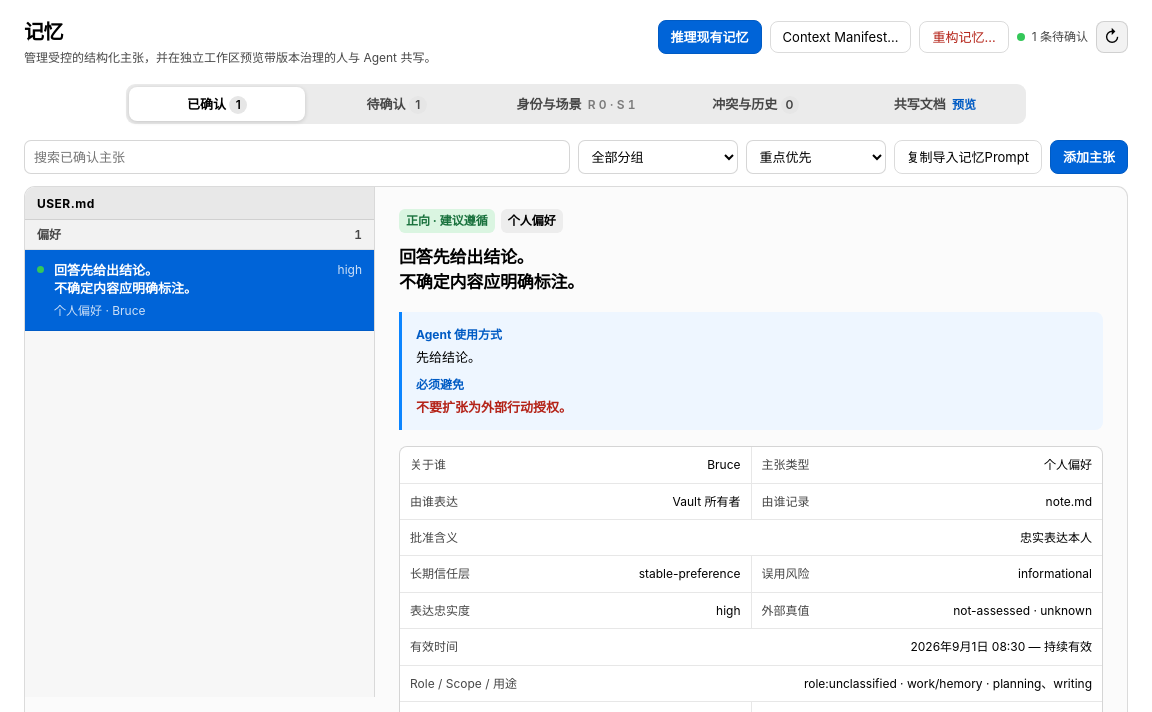
Scenario: Memory Protocol v2 app › closes a successful human draft after exactly one atomic add and reports projection recovery separately
Click the button "添加主张" at (1089, 157), box 1050,140 -> 1128,174
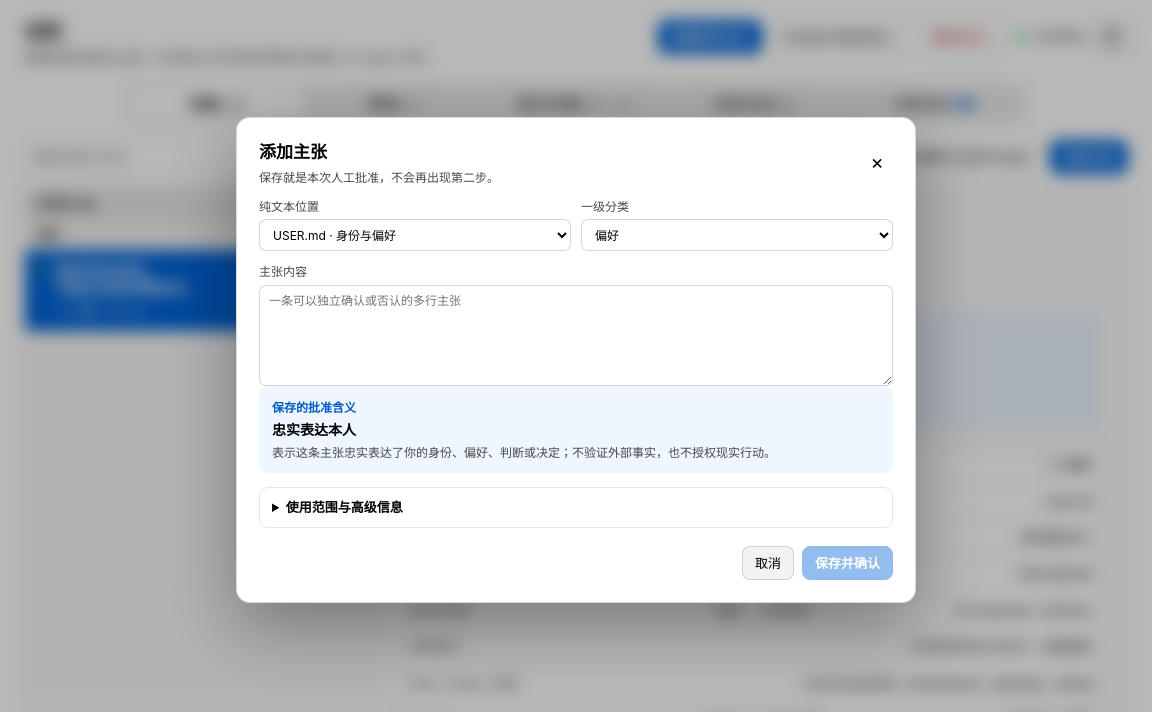
Type "我偏好短而精确的状态更新。" into the text box labelled "主张内容" at (576, 335), box 259,285 -> 893,386
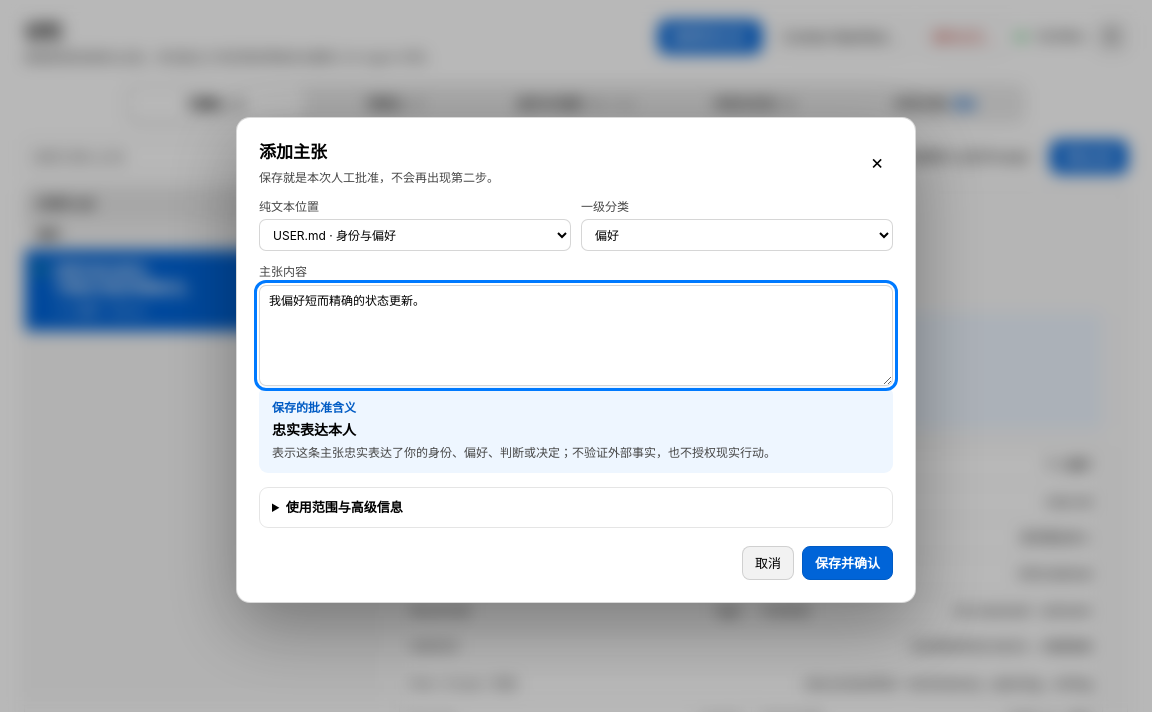
Click the button "保存并确认" at (848, 563), box 802,546 -> 893,580
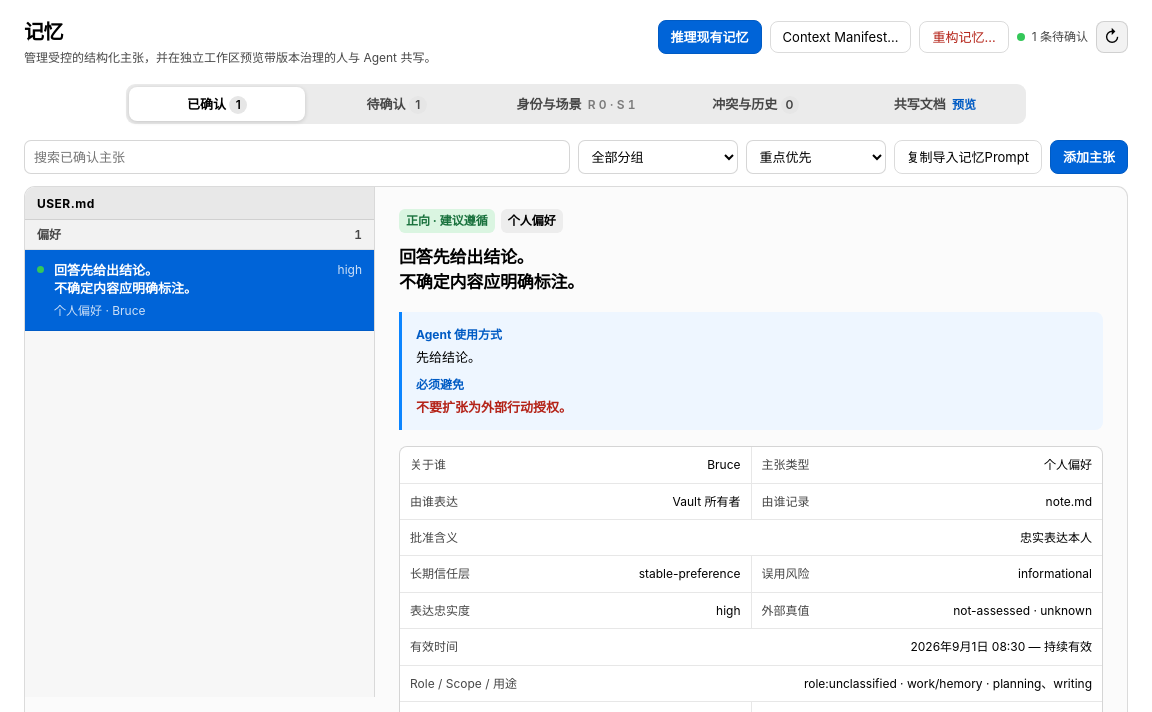
Check: the dialog is gone
